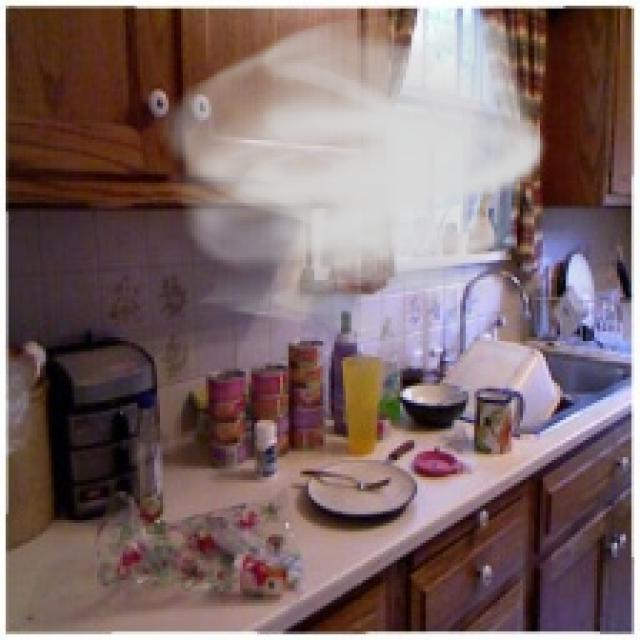smoke: (152, 3, 548, 360)
